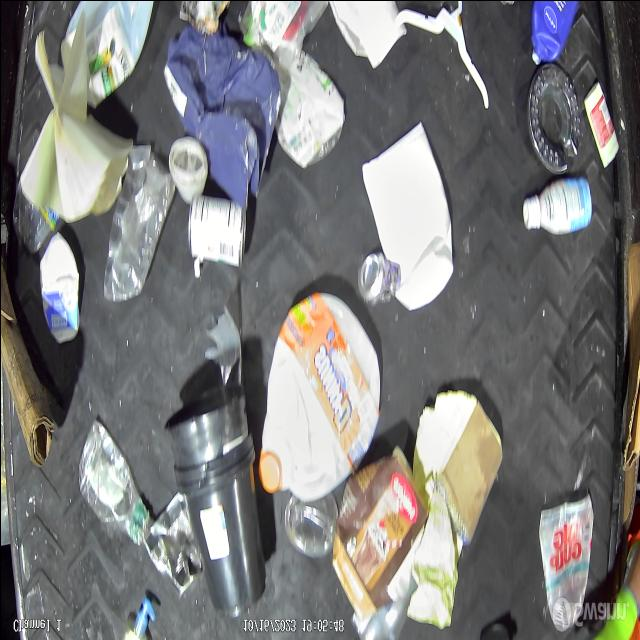can: (144, 491, 204, 601), (186, 195, 246, 268), (358, 252, 398, 304)
milk_jug: (258, 290, 380, 502), (361, 123, 454, 313), (61, 0, 152, 108), (39, 229, 81, 345)
non_white_jug: (166, 382, 266, 616), (162, 23, 282, 204), (332, 448, 425, 618), (408, 454, 462, 630), (529, 0, 580, 67)
plastic_bottle: (78, 421, 150, 545)
